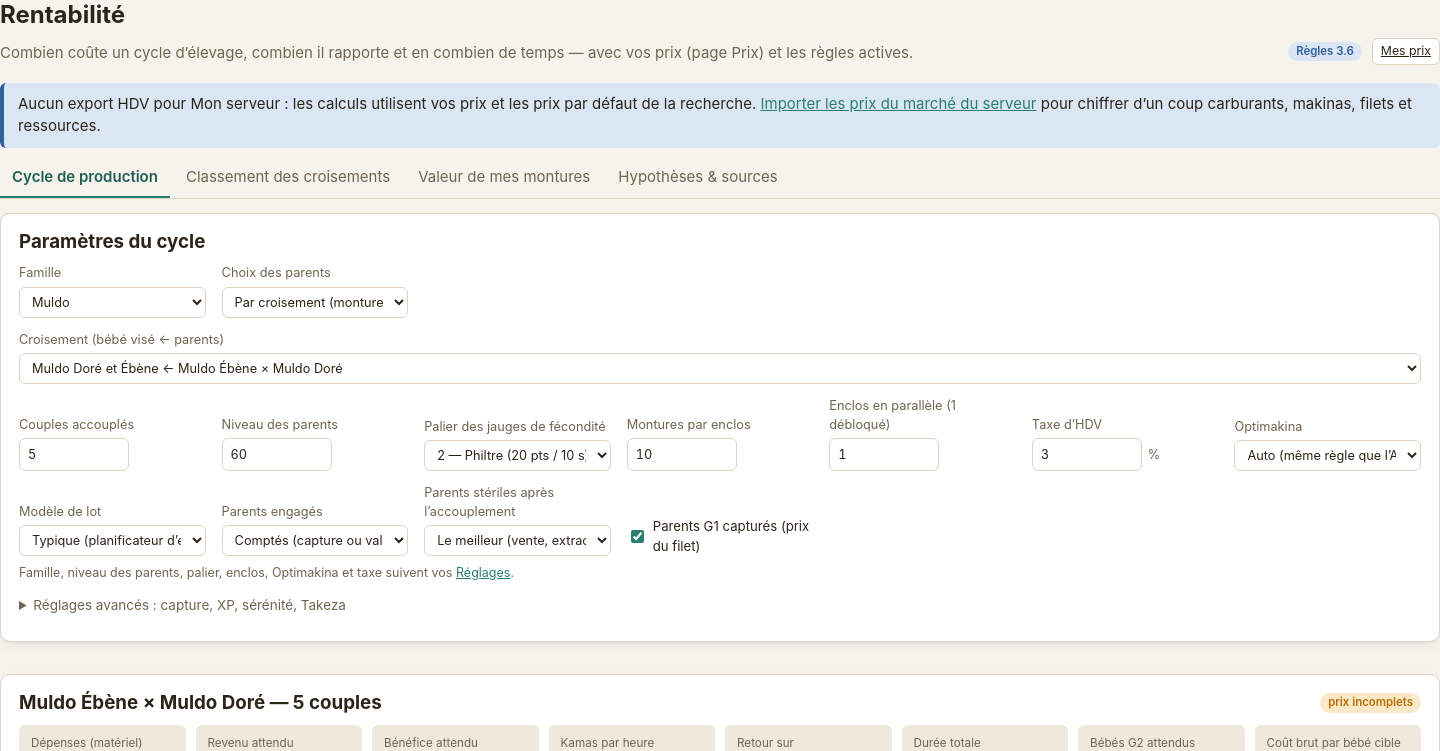
Scenario: Rentabilité : paramètres et Réglages › suit les Réglages en direct, sauf écart saisi ici (avec retour aux réglages)
Later steps or results of the test are not shown.
Expected: the number field labelled "Niveau des parents" holds "60", 222,438 -> 332,471
Replace the text in the number field labelled "Taxe d’HDV %" with "5" at coordinates (1087, 454), box 1032,438 -> 1142,471
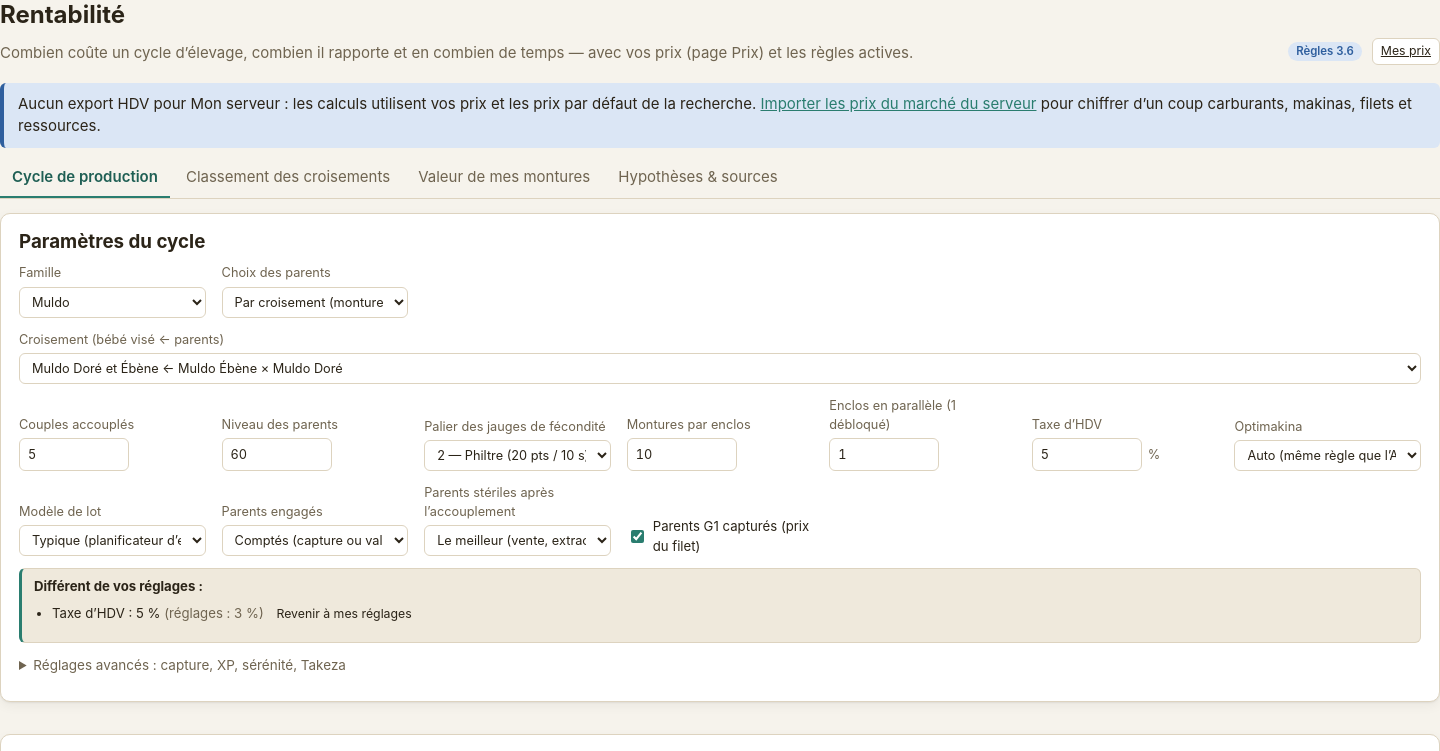
Now the text "Différent de vos réglages :" is shown, box 34,578 -> 203,594
